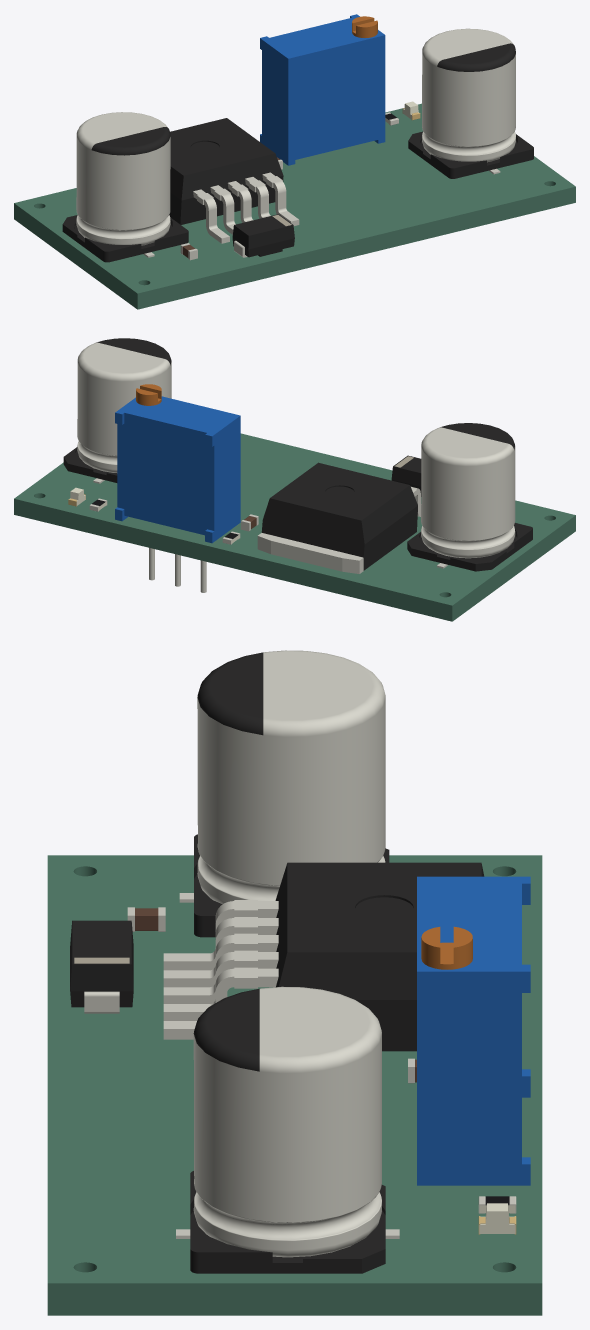
The model's file is Buck.glb.
The picture shows the model from 3 angles, top to bottom: view 1: azimuth 30°, elevation 25°; view 2: azimuth 150°, elevation 25°; view 3: azimuth 270°, elevation 25°; orthographic projection. The views are drawn at different scales.
Visible parts, largest first — view 1: =>[0:1:1:23], =>[0:1:1:3] (×2), =>[0:1:1:22], =>[0:1:1:13], =>[0:1:1:11]; view 2: =>[0:1:1:23], =>[0:1:1:3] (×2), =>[0:1:1:22], =>[0:1:1:13], =>[0:1:1:11]; view 3: =>[0:1:1:23], =>[0:1:1:3] (×2), =>[0:1:1:22], =>[0:1:1:13], =>[0:1:1:11], =>[0:1:1:7], =>[0:1:1:9].
Part boxes in pixels (<box>): =>[0:1:1:23]: <box>14,103,575,309</box>; =>[0:1:1:3] (×2): <box>62,28,533,262</box>; =>[0:1:1:22]: <box>260,14,385,165</box>; =>[0:1:1:13]: <box>169,118,299,243</box>; =>[0:1:1:11]: <box>232,214,294,257</box>; =>[0:1:1:23]: <box>14,433,575,621</box>; =>[0:1:1:3] (×2): <box>63,338,532,571</box>; =>[0:1:1:22]: <box>115,384,240,592</box>; =>[0:1:1:13]: <box>257,462,420,573</box>; =>[0:1:1:11]: <box>391,455,421,496</box>; =>[0:1:1:23]: <box>47,855,542,1315</box>; =>[0:1:1:3] (×2): <box>176,650,399,1273</box>; =>[0:1:1:22]: <box>417,876,530,1185</box>; =>[0:1:1:13]: <box>163,862,484,1051</box>; =>[0:1:1:11]: <box>70,920,133,1013</box>; =>[0:1:1:7]: <box>478,1203,516,1234</box>; =>[0:1:1:9]: <box>127,907,165,931</box>.
Size of the model in its own units: 0.043 by 0.0171 by 0.021.
